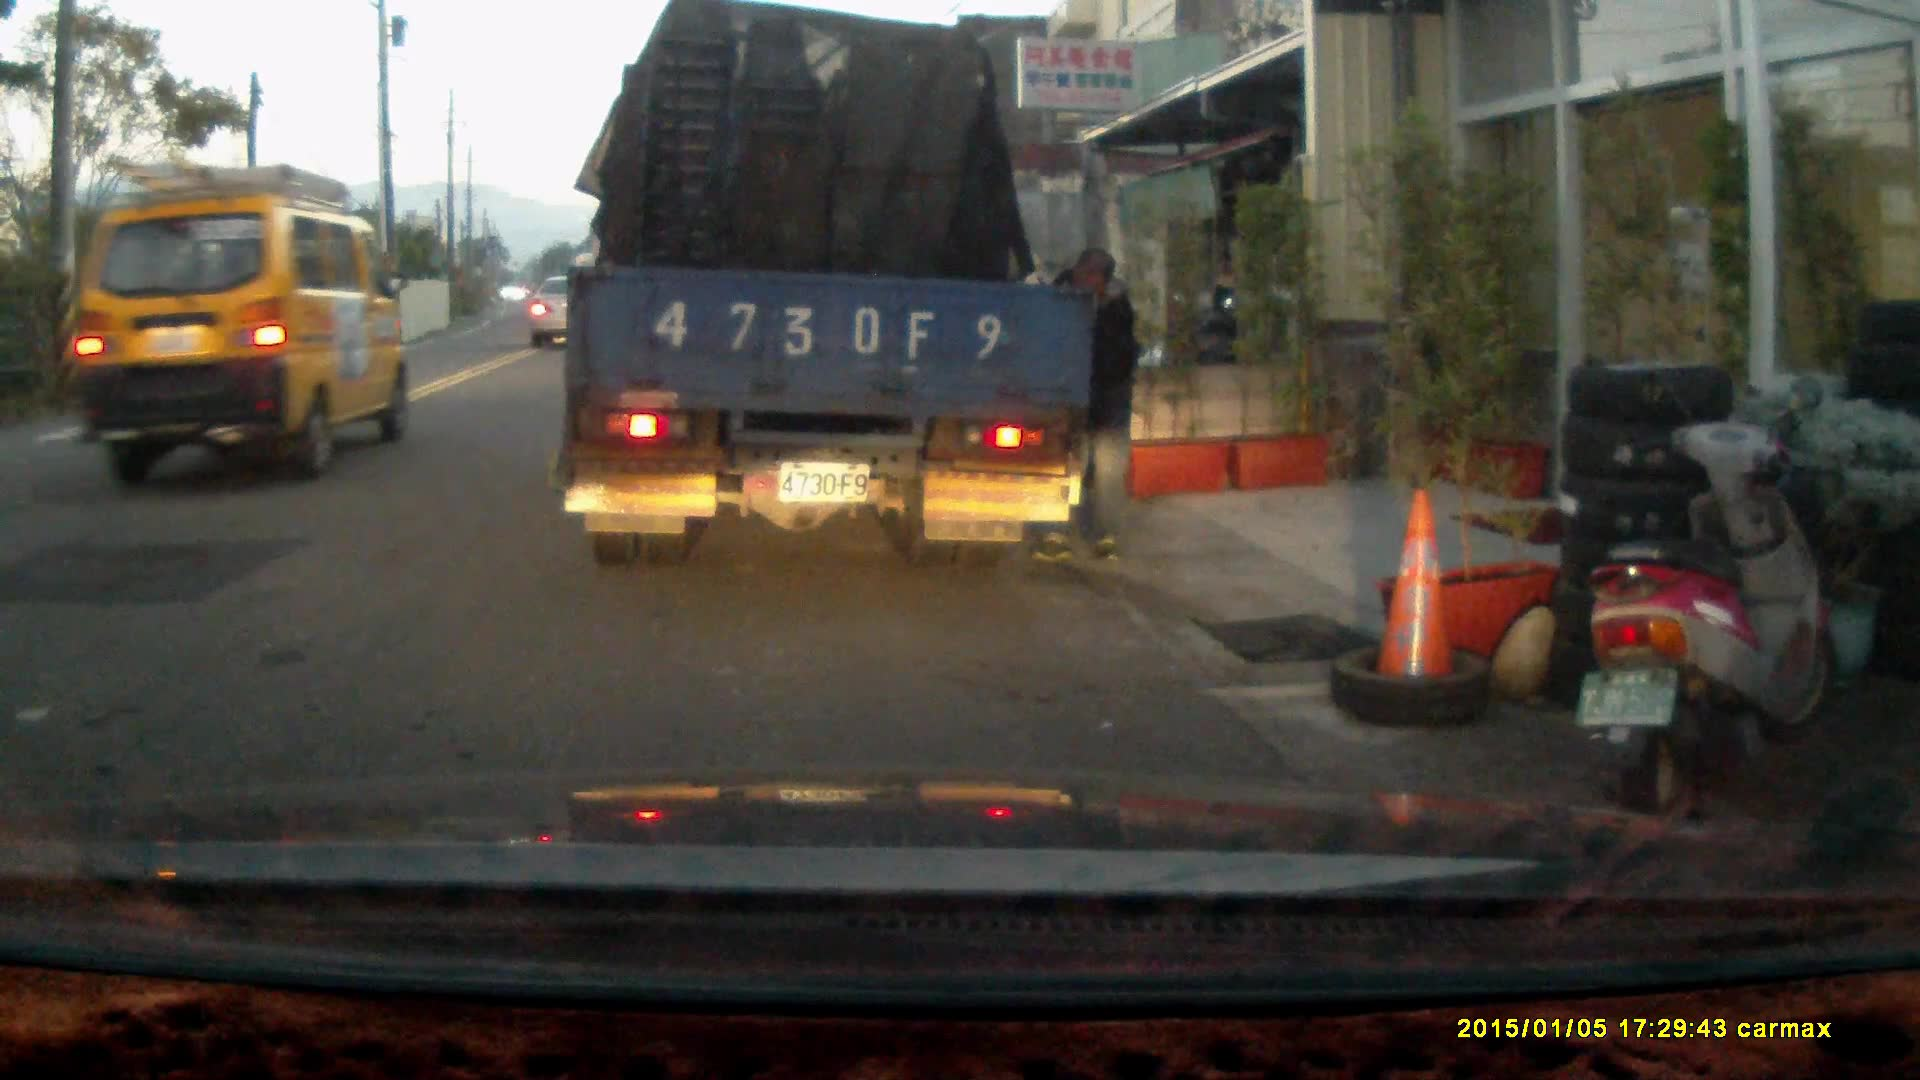pedestrian: (1024, 250, 1138, 563)
vehicle: (561, 24, 1082, 560), (69, 159, 402, 487), (530, 275, 594, 346)
